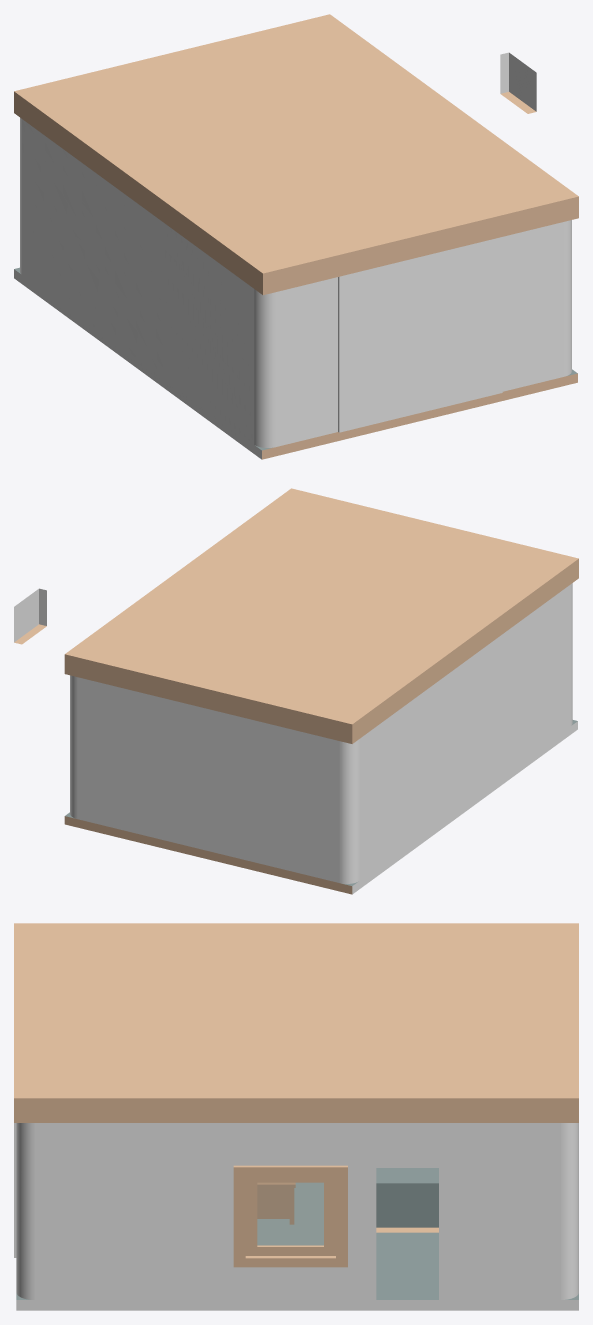
The model's file is monmon.glb.
The picture shows the model from 3 angles, top to bottom: view 1: azimuth 30°, elevation 25°; view 2: azimuth 150°, elevation 25°; view 3: azimuth 270°, elevation 25°; orthographic projection. The views are drawn at different scales.
Parts seen in each view (by area): view 1: floorFull(Clone), wallCornerRond(Clone), wall(Clone).001, wallCornerRond(Clone).002, wallCornerRond(Clone).005, Floor.002, wall(Clone).002; view 2: floorFull(Clone), wallCornerRond(Clone).002, wallCornerRond(Clone), wallCornerRond(Clone).003, Floor.002, wall(Clone).002; view 3: floorFull(Clone), wallWindow(Clone), wallCornerRond(Clone).005, wallCornerRond(Clone).003, Floor.002, window, wall(Clone).002, wall(Clone).004, desk.
Boxes of the visible parts, bbox=[...] form: floorFull(Clone): bbox=[14, 14, 578, 295]; wallCornerRond(Clone): bbox=[163, 222, 337, 447]; wall(Clone).001: bbox=[338, 237, 502, 432]; wallCornerRond(Clone).002: bbox=[20, 117, 163, 377]; wallCornerRond(Clone).005: bbox=[502, 220, 571, 391]; Floor.002: bbox=[14, 267, 577, 459]; wall(Clone).002: bbox=[500, 52, 536, 113]; floorFull(Clone): bbox=[64, 488, 578, 743]; wallCornerRond(Clone).002: bbox=[134, 645, 487, 883]; wallCornerRond(Clone): bbox=[488, 583, 572, 786]; wallCornerRond(Clone).003: bbox=[70, 675, 133, 832]; Floor.002: bbox=[64, 720, 577, 894]; wall(Clone).002: bbox=[14, 588, 46, 644]; floorFull(Clone): bbox=[14, 923, 578, 1122]; wallWindow(Clone): bbox=[173, 1123, 376, 1299]; wallCornerRond(Clone).005: bbox=[16, 1123, 173, 1299]; wallCornerRond(Clone).003: bbox=[439, 1123, 578, 1299]; Floor.002: bbox=[16, 1168, 578, 1310]; window: bbox=[245, 1176, 335, 1255]; wall(Clone).002: bbox=[376, 1183, 438, 1232]; wall(Clone).004: bbox=[376, 1123, 438, 1167]; desk: bbox=[257, 1182, 295, 1224].
Bounding box in the file's own units: 15.64 × 6.45 × 15.57.
